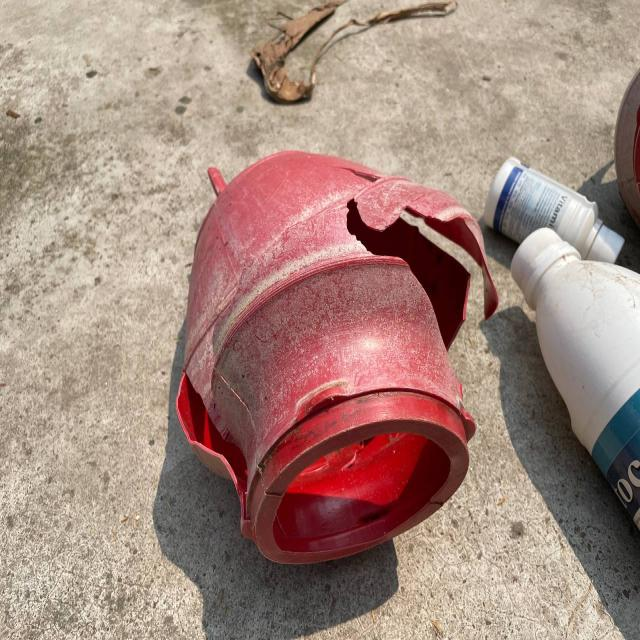Plastics: (172, 131, 510, 581), (515, 110, 640, 543)
